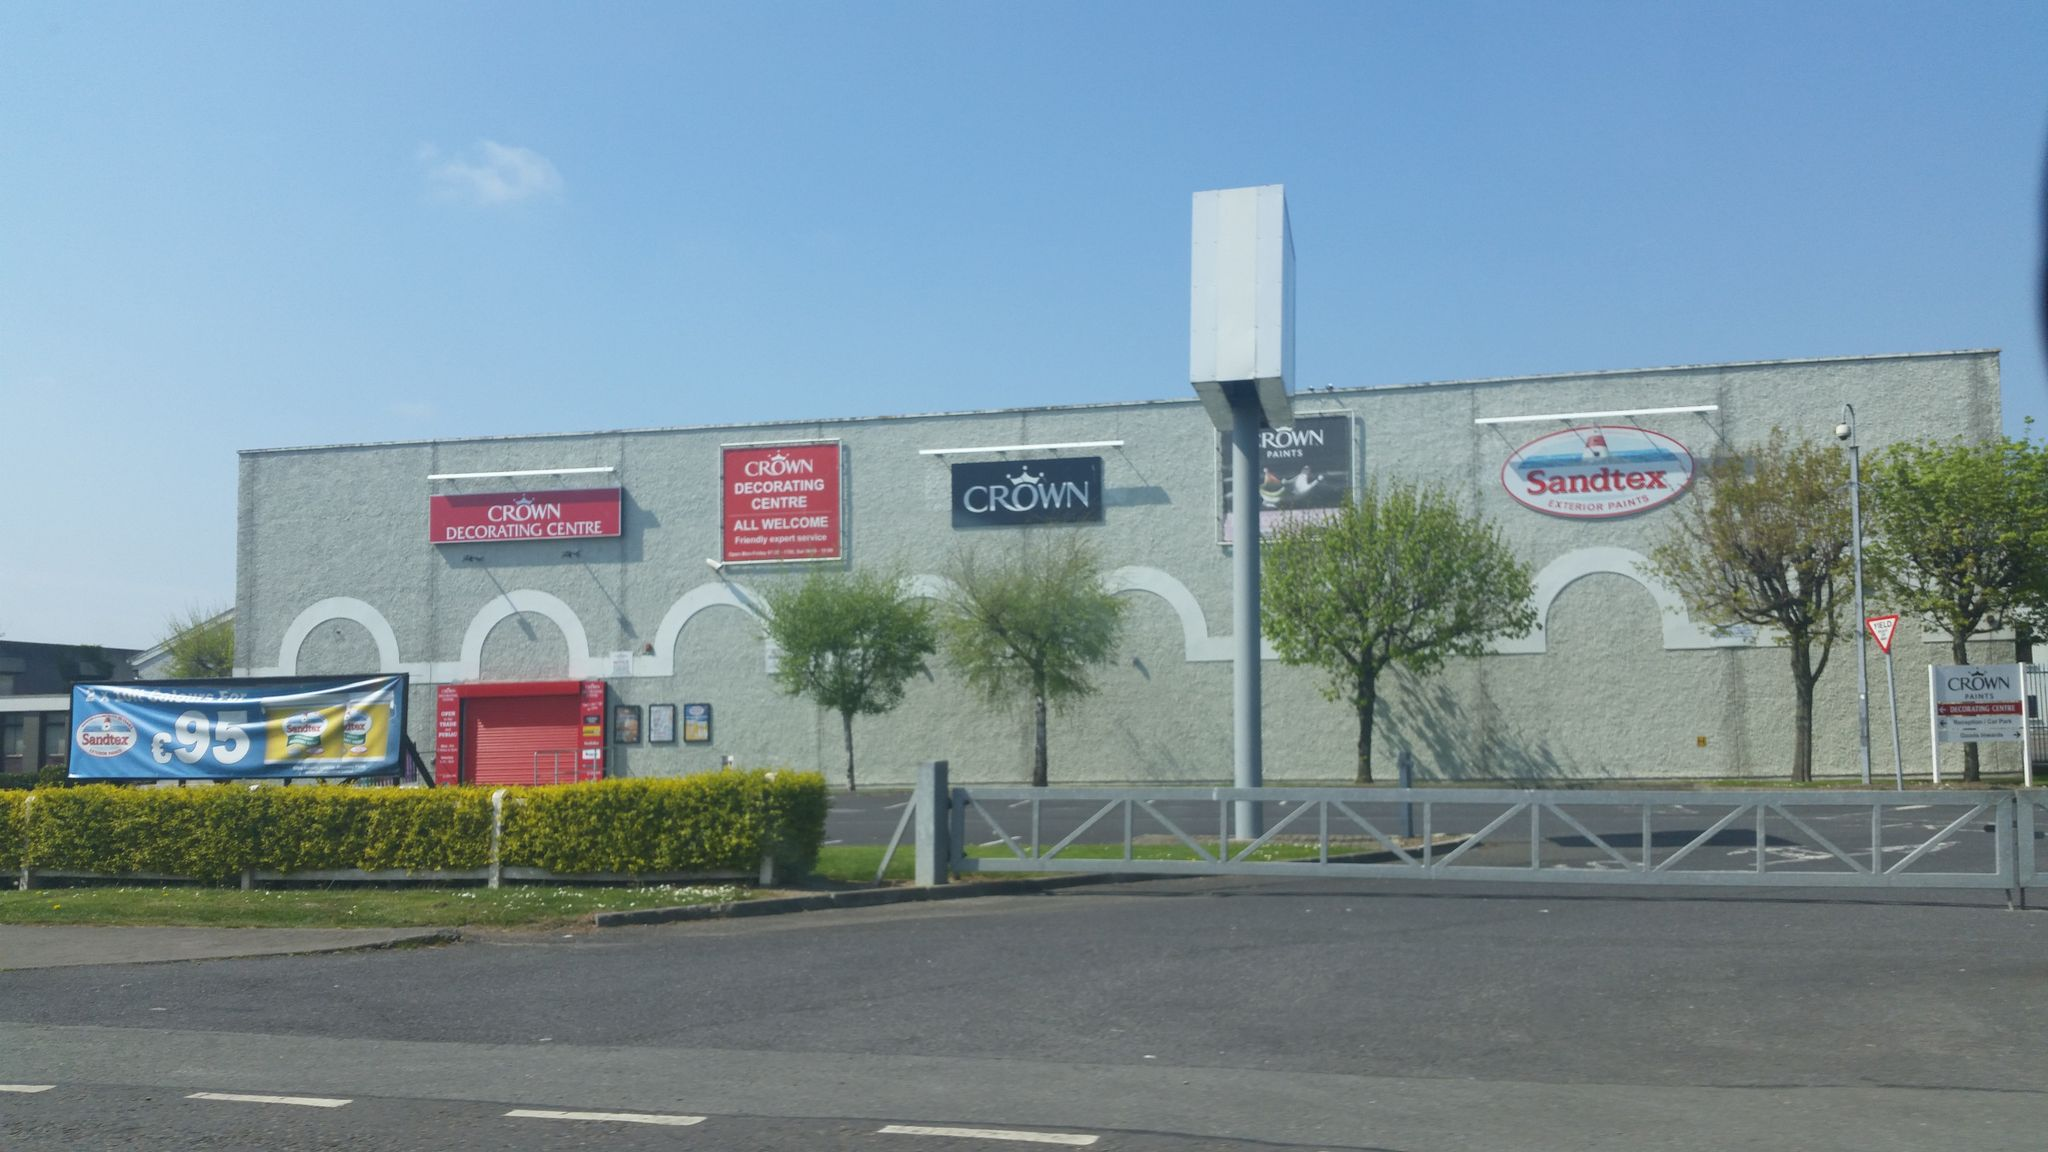vinyl banner: (68, 664, 407, 788)
